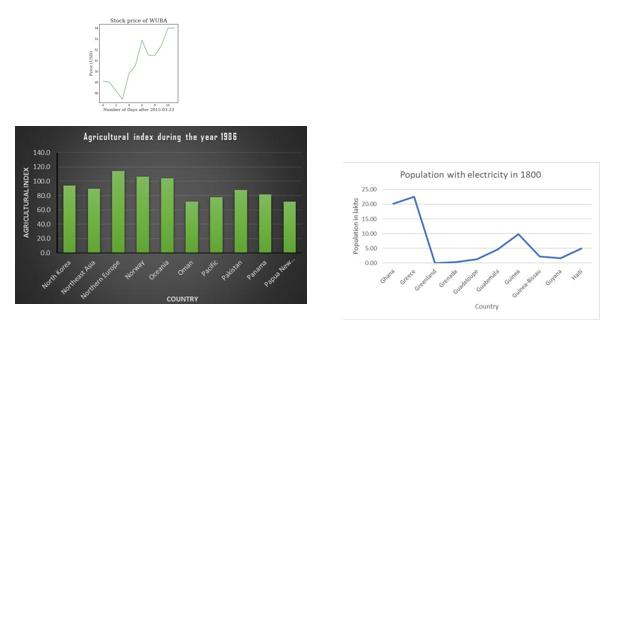Graph: (15, 126, 307, 304), (343, 162, 600, 320), (69, 12, 205, 114)
